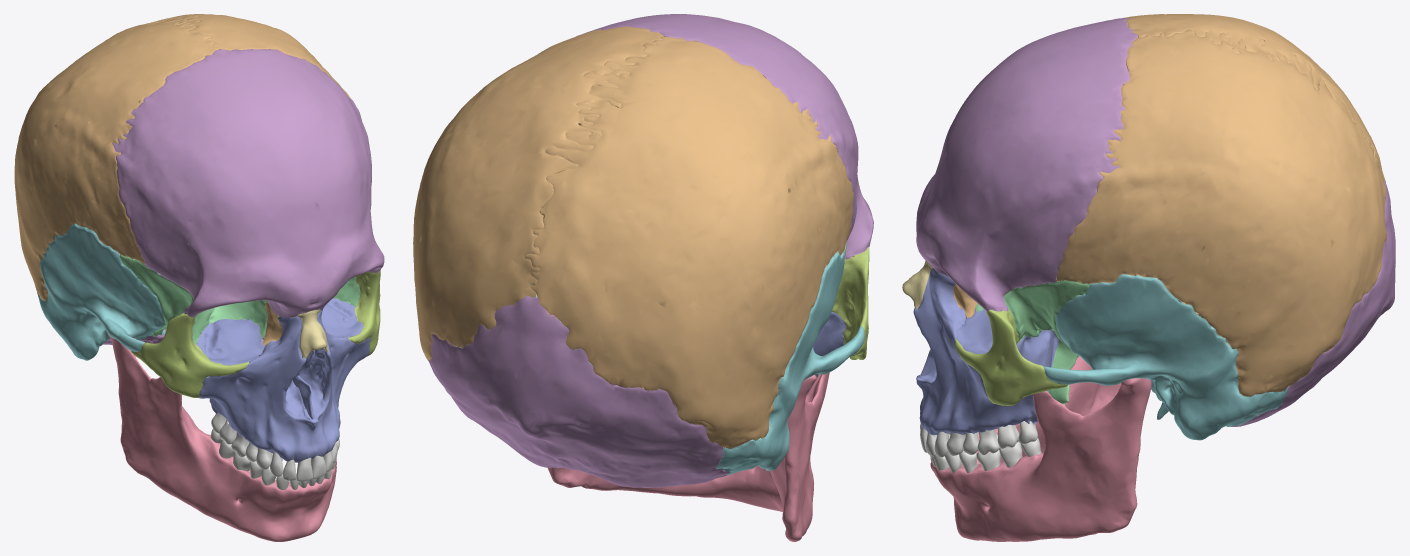
Rendered from 头骨_Skull Parts_opt.glb.
3 renders of one model, left to right at view 1: azimuth 30°, elevation 25°; view 2: azimuth 150°, elevation 25°; view 3: azimuth 270°, elevation 25°, orthographic. The views are drawn at different scales.
Visible parts, largest first — view 1: Material013; view 2: Material013; view 3: Material013.
Part boxes in pixels (<box>): Material013: <box>14,14,384,541</box>; Material013: <box>413,14,873,541</box>; Material013: <box>902,14,1395,541</box>.
Size of the model in its own units: 0.276 by 0.4 by 0.3601.
1 material, 1 textured.
